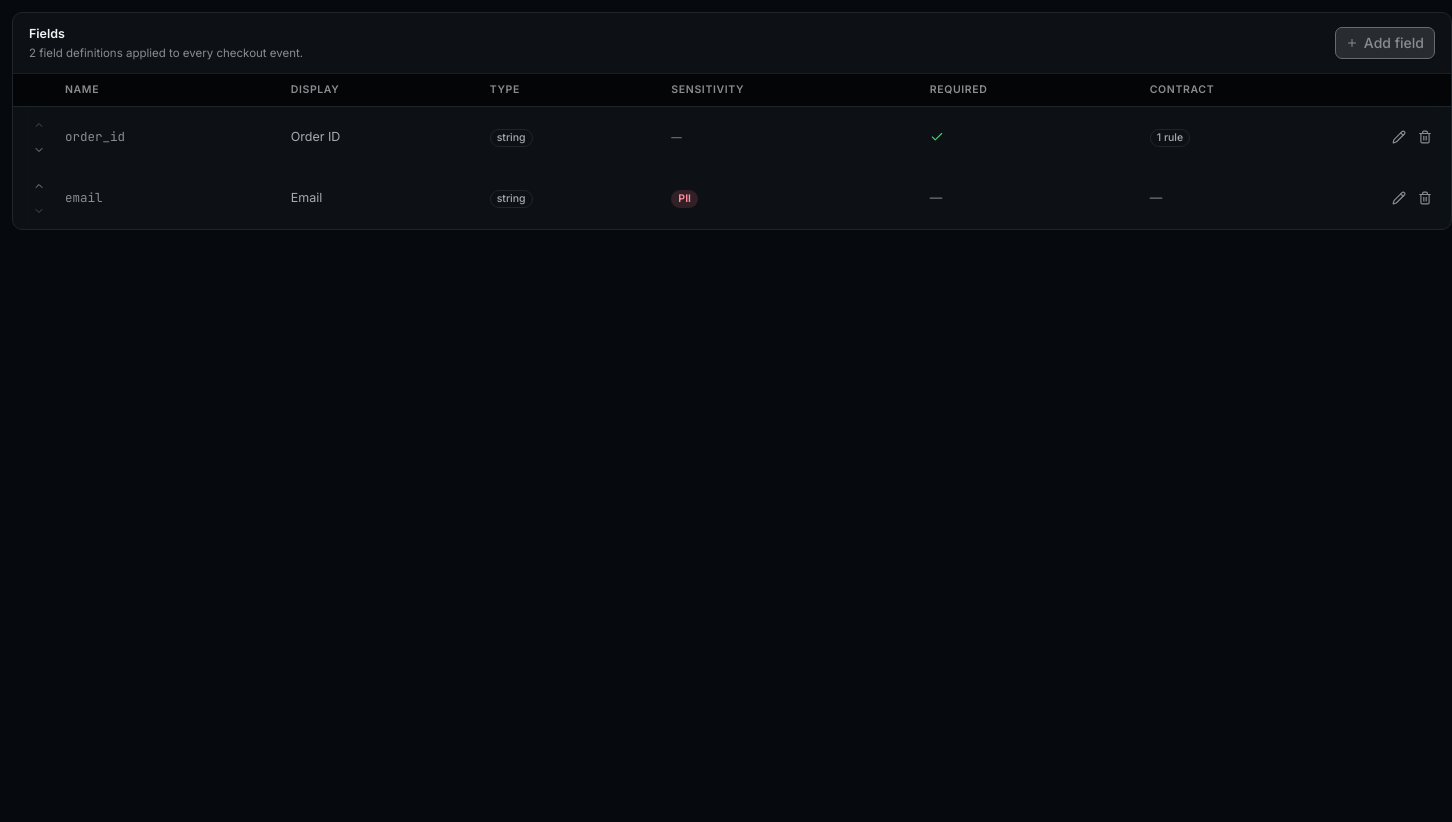
Test case: FieldsEditor field edit subpage (PLAN-46) › is a form whose Save is its submit button, so Enter saves
Click the button "Add field".
click(1385, 43)  # box [1335,27,1435,59]
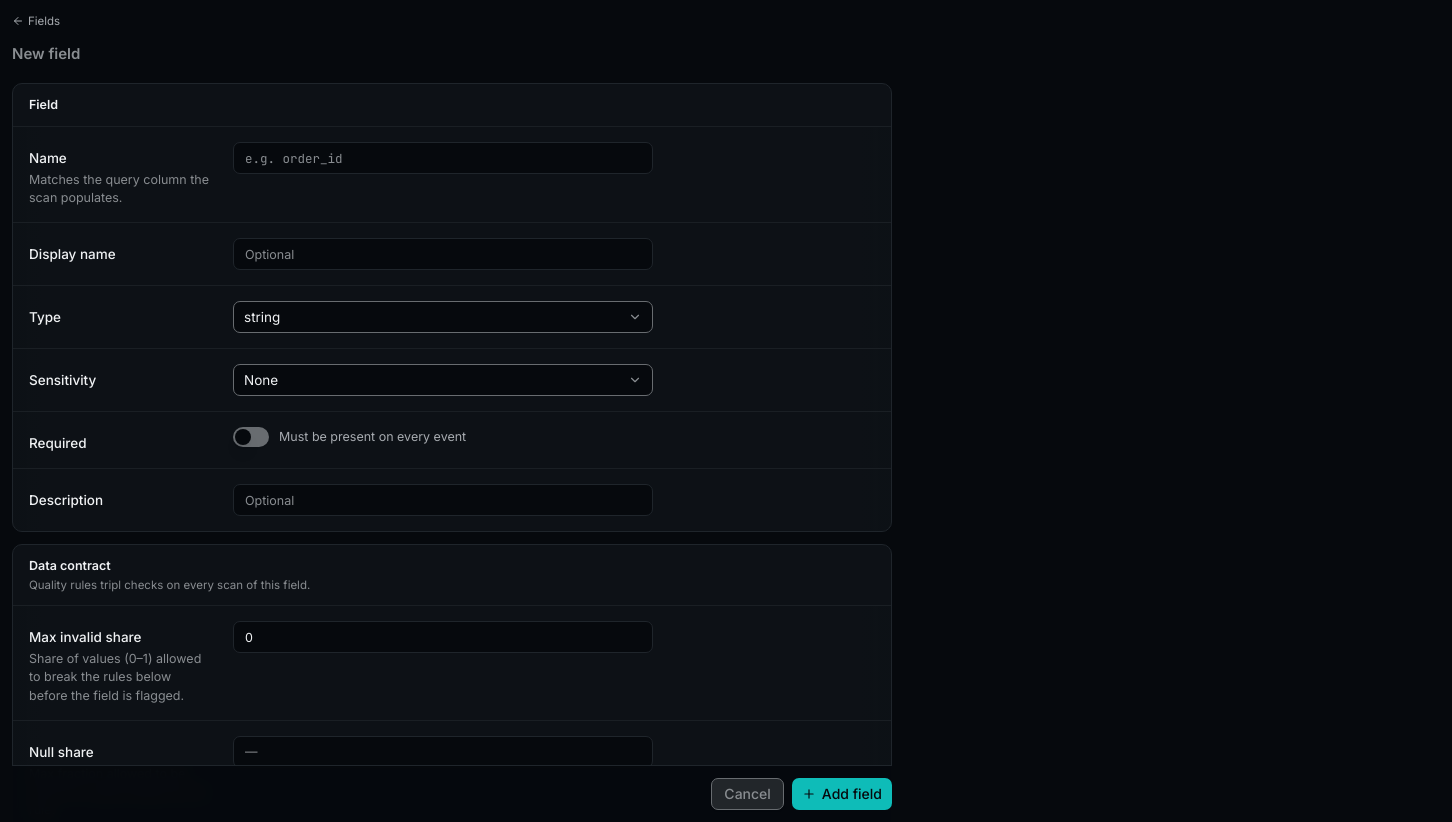
Expected: the heading "New field" is shown, [12,44,80,63]
